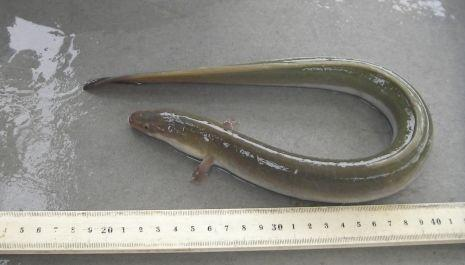Freshwater Eel: (84, 57, 435, 205)
